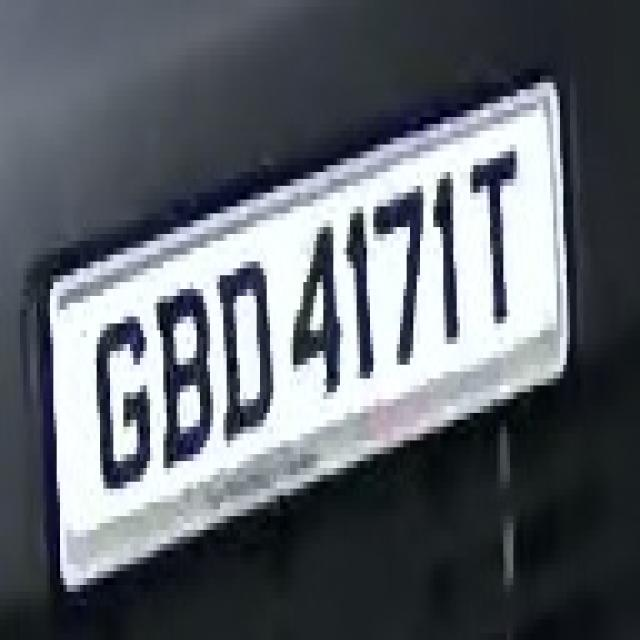1: (340, 186, 377, 413), (424, 165, 464, 365)
4: (280, 220, 347, 427)
7: (370, 179, 427, 372)
B: (150, 262, 217, 488)
D: (220, 241, 280, 454)
G: (90, 289, 157, 489)
T: (460, 110, 523, 358)
